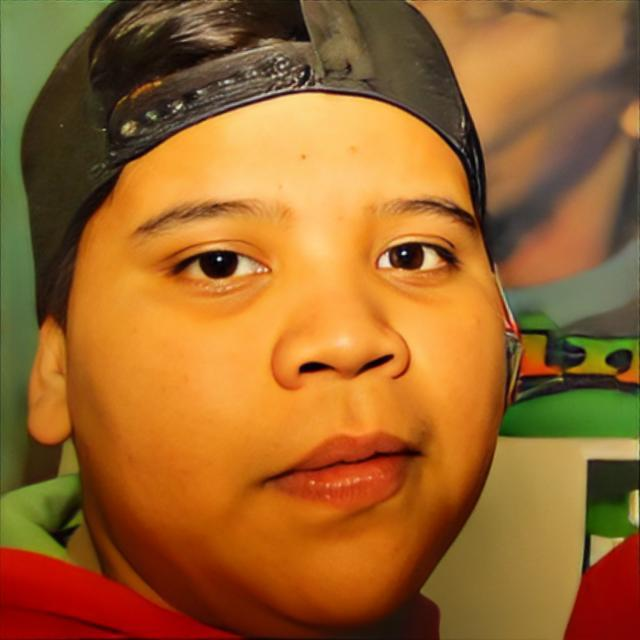neutral: (74, 96, 508, 624)
